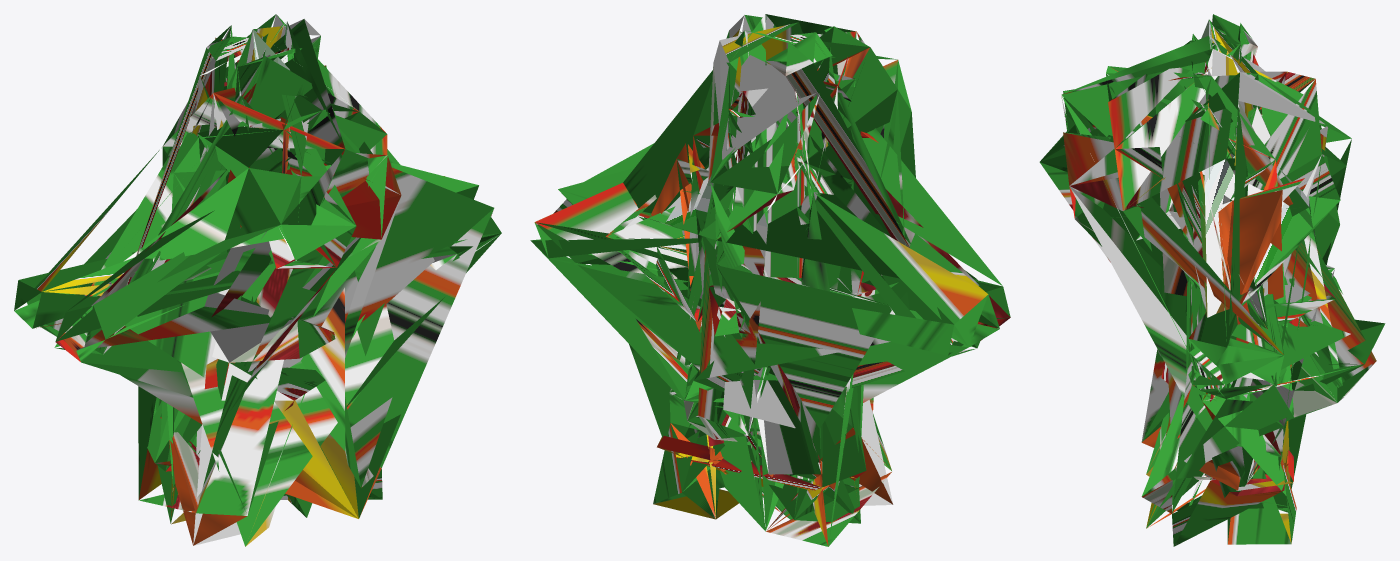
The model's file is yoshi2.obj.
3 views of the same model, side by side, from view 1: azimuth 30°, elevation 25°; view 2: azimuth 150°, elevation 25°; view 3: azimuth 270°, elevation 25° (orthographic). The views are drawn at different scales.
Visible parts, largest first — view 1: mario_all_root, face_1.001, ankle_r1.002, spin, wrist_l1.001, wrist_r1.001, skl_root.028; view 2: mario_all_root, face_1.001, ankle_r1.002, ankle_l1.002, spin, skl_root.028, wrist_l1.001, wrist_r1.001, leg_r1.002; view 3: mario_all_root, face_1.001, ankle_l1.002, wrist_l1.001, skl_root.028, spin, leg_l1.001.
Boxes of the visible parts, x1,y1,x2,y2 form: mario_all_root: [18, 14, 501, 546]; face_1.001: [162, 14, 401, 268]; ankle_r1.002: [138, 314, 365, 546]; spin: [204, 292, 331, 362]; wrist_l1.001: [55, 189, 501, 341]; wrist_r1.001: [14, 280, 111, 362]; skl_root.028: [212, 341, 293, 400]; mario_all_root: [530, 14, 1010, 544]; face_1.001: [677, 14, 911, 291]; ankle_r1.002: [638, 216, 892, 546]; ankle_l1.002: [653, 423, 855, 519]; spin: [616, 237, 751, 336]; skl_root.028: [670, 361, 767, 442]; wrist_l1.001: [533, 193, 1010, 318]; wrist_r1.001: [900, 292, 999, 355]; leg_r1.002: [789, 408, 852, 475]; mario_all_root: [1039, 14, 1385, 546]; face_1.001: [1040, 14, 1351, 398]; ankle_l1.002: [1142, 451, 1296, 546]; wrist_l1.001: [1186, 277, 1284, 399]; skl_root.028: [1249, 319, 1384, 426]; spin: [1185, 267, 1342, 328]; leg_l1.001: [1242, 419, 1283, 482].
Size of the model in its own units: 19.67 by 19.86 by 13.13.
